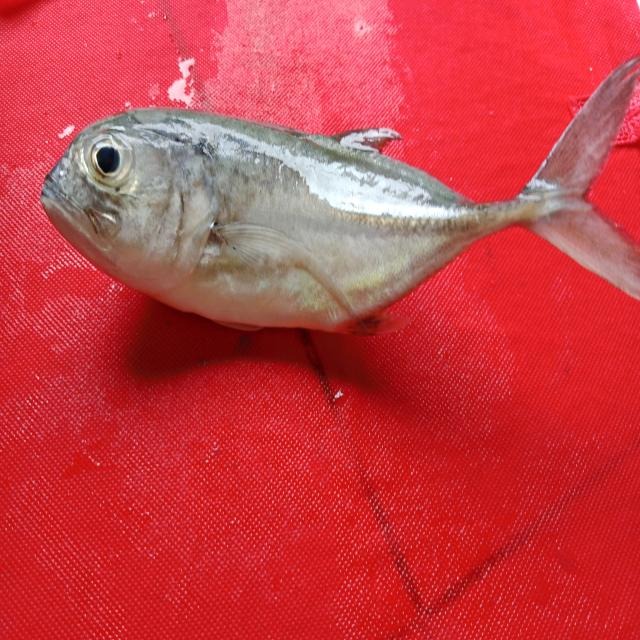ikan: (33, 50, 630, 360)
